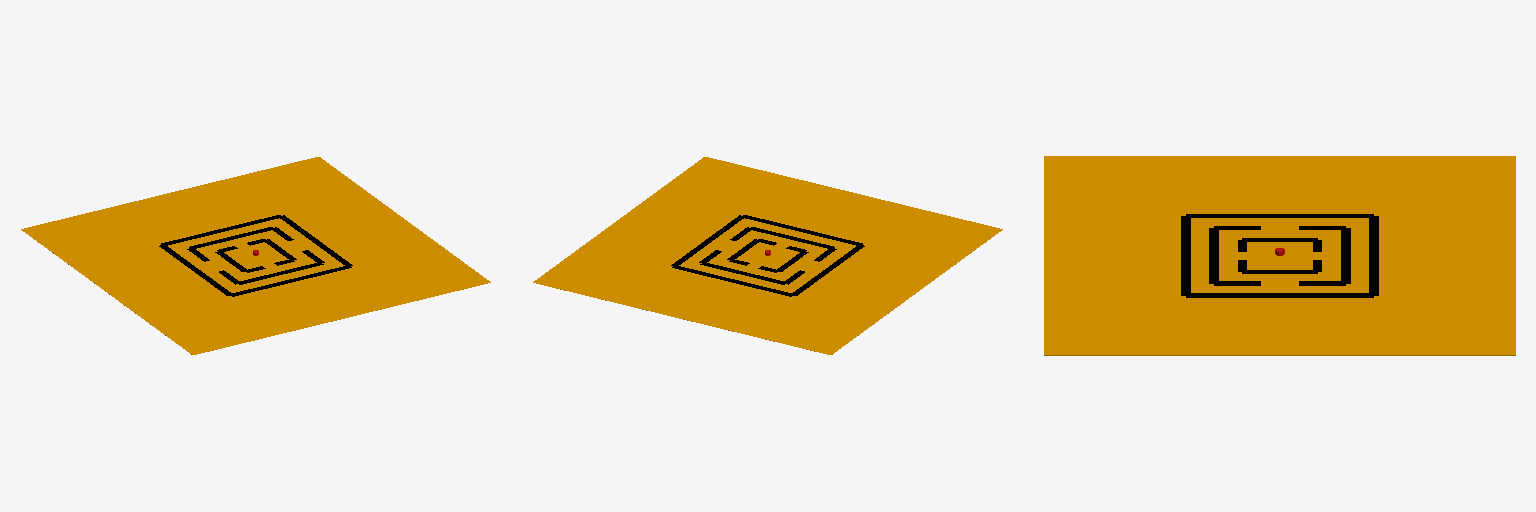
URDF robot description (maze):
<?xml version="1.0" ?>
<!-- =================================================================================== -->
<!-- |    This document was autogenerated by xacro from maze.urdf.xacro                | -->
<!-- |    EDITING THIS FILE BY HAND IS NOT RECOMMENDED                                 | -->
<!-- =================================================================================== -->
<robot name="maze">
  <material name="black">
    <color rgba="0 0 0 1"/>
  </material>
  <material name="red">
    <color rgba="0.8 0.1 0.1 1"/>
  </material>
  <material name="blue">
    <color rgba="0.1 0.1 0.9 1"/>
  </material>
  <material name="white">
    <color rgba="1 1 1 1"/>
  </material>
  <link name="base_link">
    <origin rpy="0.0 0.0 0.0" xyz="0 0 0.00"/>
    <visual>
      <geometry>
        <box size="5 5 0.001"/>
      </geometry>
    </visual>
  </link>
  <link name="obs_l1">
    <visual>
      <origin rpy="0.0 0.0 0.0" xyz="0.0 0.0 0.0"/>
      <geometry>
        <box size="0.1 0.8 0.01"/>
      </geometry>
      <material name="black"/>
    </visual>
    <collision>
      <origin rpy="0.0 0.0 0.0" xyz="0.0 0.0 0.0"/>
      <geometry>
        <box size="0.1 0.8 0.15"/>
      </geometry>
    </collision>
    <inertial>
      <mass value="10000"/>
      <inertia ixx="100" ixy="0" ixz="0" iyy="100" iyz="0" izz="100"/>
    </inertial>
  </link>
  <joint name="base_to_obs_l1" type="fixed">
    <parent link="base_link"/>
    <child link="obs_l1"/>
    <origin xyz="-0.4 0.0 0.0"/>
  </joint>
  <link name="obs_l2">
    <visual>
      <origin rpy="0.0 0.0 0.0" xyz="0.0 0.0 0.0"/>
      <geometry>
        <box size="0.3 0.1 0.01"/>
      </geometry>
      <material name="black"/>
    </visual>
    <collision>
      <origin rpy="0.0 0.0 0.0" xyz="0.0 0.0 0.0"/>
      <geometry>
        <box size="0.3 0.1 0.15"/>
      </geometry>
    </collision>
    <inertial>
      <mass value="10000"/>
      <inertia ixx="100" ixy="0" ixz="0" iyy="100" iyz="0" izz="100"/>
    </inertial>
  </link>
  <joint name="base_to_obs_l2" type="fixed">
    <parent link="base_link"/>
    <child link="obs_l2"/>
    <origin xyz="-0.25 0.4 0.0"/>
  </joint>
  <link name="obs_l3">
    <visual>
      <origin rpy="0.0 0.0 0.0" xyz="0.0 0.0 0.0"/>
      <geometry>
        <box size="0.3 0.1 0.01"/>
      </geometry>
      <material name="black"/>
    </visual>
    <collision>
      <origin rpy="0.0 0.0 0.0" xyz="0.0 0.0 0.0"/>
      <geometry>
        <box size="0.3 0.1 0.15"/>
      </geometry>
    </collision>
    <inertial>
      <mass value="10000"/>
      <inertia ixx="100" ixy="0" ixz="0" iyy="100" iyz="0" izz="100"/>
    </inertial>
  </link>
  <joint name="base_to_obs_l3" type="fixed">
    <parent link="base_link"/>
    <child link="obs_l3"/>
    <origin xyz="-0.25 -0.4 0.0"/>
  </joint>
  <link name="obs_r1">
    <visual>
      <origin rpy="0.0 0.0 0.0" xyz="0.0 0.0 0.0"/>
      <geometry>
        <box size="0.1 0.8 0.01"/>
      </geometry>
      <material name="black"/>
    </visual>
    <collision>
      <origin rpy="0.0 0.0 0.0" xyz="0.0 0.0 0.0"/>
      <geometry>
        <box size="0.1 0.8 0.15"/>
      </geometry>
    </collision>
    <inertial>
      <mass value="10000"/>
      <inertia ixx="100" ixy="0" ixz="0" iyy="100" iyz="0" izz="100"/>
    </inertial>
  </link>
  <joint name="base_to_obs_r1" type="fixed">
    <parent link="base_link"/>
    <child link="obs_r1"/>
    <origin xyz="0.4 0.0 0.0"/>
  </joint>
  <link name="obs_r2">
    <visual>
      <origin rpy="0.0 0.0 0.0" xyz="0.0 0.0 0.0"/>
      <geometry>
        <box size="0.3 0.1 0.01"/>
      </geometry>
      <material name="black"/>
    </visual>
    <collision>
      <origin rpy="0.0 0.0 0.0" xyz="0.0 0.0 0.0"/>
      <geometry>
        <box size="0.3 0.1 0.15"/>
      </geometry>
    </collision>
    <inertial>
      <mass value="10000"/>
      <inertia ixx="100" ixy="0" ixz="0" iyy="100" iyz="0" izz="100"/>
    </inertial>
  </link>
  <joint name="base_to_obs_r2" type="fixed">
    <parent link="base_link"/>
    <child link="obs_r2"/>
    <origin xyz="0.25 0.4 0.0"/>
  </joint>
  <link name="obs_r3">
    <visual>
      <origin rpy="0.0 0.0 0.0" xyz="0.0 0.0 0.0"/>
      <geometry>
        <box size="0.3 0.1 0.01"/>
      </geometry>
      <material name="black"/>
    </visual>
    <collision>
      <origin rpy="0.0 0.0 0.0" xyz="0.0 0.0 0.0"/>
      <geometry>
        <box size="0.3 0.1 0.15"/>
      </geometry>
    </collision>
    <inertial>
      <mass value="10000"/>
      <inertia ixx="100" ixy="0" ixz="0" iyy="100" iyz="0" izz="100"/>
    </inertial>
  </link>
  <joint name="base_to_obs_r3" type="fixed">
    <parent link="base_link"/>
    <child link="obs_r3"/>
    <origin xyz="0.25 -0.4 0.0"/>
  </joint>
  <link name="obs_t1">
    <visual>
      <origin rpy="0.0 0.0 0.0" xyz="0.0 0.0 0.0"/>
      <geometry>
        <box size="1.4 0.1 0.01"/>
      </geometry>
      <material name="black"/>
    </visual>
    <collision>
      <origin rpy="0.0 0.0 0.0" xyz="0.0 0.0 0.0"/>
      <geometry>
        <box size="1.4 0.1 0.15"/>
      </geometry>
    </collision>
    <inertial>
      <mass value="10000"/>
      <inertia ixx="100" ixy="0" ixz="0" iyy="100" iyz="0" izz="100"/>
    </inertial>
  </link>
  <joint name="base_to_obs_t1" type="fixed">
    <parent link="base_link"/>
    <child link="obs_t1"/>
    <origin xyz="0.0 0.7 0.0"/>
  </joint>
  <link name="obs_t2">
    <visual>
      <origin rpy="0.0 0.0 0.0" xyz="0.0 0.0 0.0"/>
      <geometry>
        <box size="0.1 0.5 0.01"/>
      </geometry>
      <material name="black"/>
    </visual>
    <collision>
      <origin rpy="0.0 0.0 0.0" xyz="0.0 0.0 0.0"/>
      <geometry>
        <box size="0.1 0.5 0.15"/>
      </geometry>
    </collision>
    <inertial>
      <mass value="10000"/>
      <inertia ixx="100" ixy="0" ixz="0" iyy="100" iyz="0" izz="100"/>
    </inertial>
  </link>
  <joint name="base_to_obs_t2" type="fixed">
    <parent link="base_link"/>
    <child link="obs_t2"/>
    <origin xyz="-0.7 0.44999999999999996 0.0"/>
  </joint>
  <link name="obs_t3">
    <visual>
      <origin rpy="0.0 0.0 0.0" xyz="0.0 0.0 0.0"/>
      <geometry>
        <box size="0.1 0.5 0.01"/>
      </geometry>
      <material name="black"/>
    </visual>
    <collision>
      <origin rpy="0.0 0.0 0.0" xyz="0.0 0.0 0.0"/>
      <geometry>
        <box size="0.1 0.5 0.15"/>
      </geometry>
    </collision>
    <inertial>
      <mass value="10000"/>
      <inertia ixx="100" ixy="0" ixz="0" iyy="100" iyz="0" izz="100"/>
    </inertial>
  </link>
  <joint name="base_to_obs_t3" type="fixed">
    <parent link="base_link"/>
    <child link="obs_t3"/>
    <origin xyz="0.7 0.44999999999999996 0.0"/>
  </joint>
  <link name="obs_b1">
    <visual>
      <origin rpy="0.0 0.0 0.0" xyz="0.0 0.0 0.0"/>
      <geometry>
        <box size="1.4 0.1 0.01"/>
      </geometry>
      <material name="black"/>
    </visual>
    <collision>
      <origin rpy="0.0 0.0 0.0" xyz="0.0 0.0 0.0"/>
      <geometry>
        <box size="1.4 0.1 0.15"/>
      </geometry>
    </collision>
    <inertial>
      <mass value="10000"/>
      <inertia ixx="100" ixy="0" ixz="0" iyy="100" iyz="0" izz="100"/>
    </inertial>
  </link>
  <joint name="base_to_obs_b1" type="fixed">
    <parent link="base_link"/>
    <child link="obs_b1"/>
    <origin xyz="0.0 -0.7 0.0"/>
  </joint>
  <link name="obs_b2">
    <visual>
      <origin rpy="0.0 0.0 0.0" xyz="0.0 0.0 0.0"/>
      <geometry>
        <box size="0.1 0.5 0.01"/>
      </geometry>
      <material name="black"/>
    </visual>
    <collision>
      <origin rpy="0.0 0.0 0.0" xyz="0.0 0.0 0.0"/>
      <geometry>
        <box size="0.1 0.5 0.15"/>
      </geometry>
    </collision>
    <inertial>
      <mass value="10000"/>
      <inertia ixx="100" ixy="0" ixz="0" iyy="100" iyz="0" izz="100"/>
    </inertial>
  </link>
  <joint name="base_to_obs_b2" type="fixed">
    <parent link="base_link"/>
    <child link="obs_b2"/>
    <origin xyz="-0.7 -0.44999999999999996 0.0"/>
  </joint>
  <link name="obs_b3">
    <visual>
      <origin rpy="0.0 0.0 0.0" xyz="0.0 0.0 0.0"/>
      <geometry>
        <box size="0.1 0.5 0.01"/>
      </geometry>
      <material name="black"/>
    </visual>
    <collision>
      <origin rpy="0.0 0.0 0.0" xyz="0.0 0.0 0.0"/>
      <geometry>
        <box size="0.1 0.5 0.15"/>
      </geometry>
    </collision>
    <inertial>
      <mass value="10000"/>
      <inertia ixx="100" ixy="0" ixz="0" iyy="100" iyz="0" izz="100"/>
    </inertial>
  </link>
  <joint name="base_to_obs_b3" type="fixed">
    <parent link="base_link"/>
    <child link="obs_b3"/>
    <origin xyz="0.7 -0.44999999999999996 0.0"/>
  </joint>
  <link name="obs_w1">
    <visual>
      <origin rpy="0.0 0.0 0.0" xyz="0.0 0.0 0.0"/>
      <geometry>
        <box size="2.0 0.1 0.01"/>
      </geometry>
      <material name="black"/>
    </visual>
    <collision>
      <origin rpy="0.0 0.0 0.0" xyz="0.0 0.0 0.0"/>
      <geometry>
        <box size="2.0 0.1 0.15"/>
      </geometry>
    </collision>
    <inertial>
      <mass value="10000"/>
      <inertia ixx="100" ixy="0" ixz="0" iyy="100" iyz="0" izz="100"/>
    </inertial>
  </link>
  <joint name="base_to_obs_w1" type="fixed">
    <parent link="base_link"/>
    <child link="obs_w1"/>
    <origin xyz="0 1.0 0.0"/>
  </joint>
  <link name="obs_w2">
    <visual>
      <origin rpy="0.0 0.0 0.0" xyz="0.0 0.0 0.0"/>
      <geometry>
        <box size="2.0 0.1 0.01"/>
      </geometry>
      <material name="black"/>
    </visual>
    <collision>
      <origin rpy="0.0 0.0 0.0" xyz="0.0 0.0 0.0"/>
      <geometry>
        <box size="2.0 0.1 0.15"/>
      </geometry>
    </collision>
    <inertial>
      <mass value="10000"/>
      <inertia ixx="100" ixy="0" ixz="0" iyy="100" iyz="0" izz="100"/>
    </inertial>
  </link>
  <joint name="base_to_obs_w2" type="fixed">
    <parent link="base_link"/>
    <child link="obs_w2"/>
    <origin xyz="0 -1.0 0.0"/>
  </joint>
  <link name="obs_w3">
    <visual>
      <origin rpy="0.0 0.0 0.0" xyz="0.0 0.0 0.0"/>
      <geometry>
        <box size="0.1 2.0 0.01"/>
      </geometry>
      <material name="black"/>
    </visual>
    <collision>
      <origin rpy="0.0 0.0 0.0" xyz="0.0 0.0 0.0"/>
      <geometry>
        <box size="0.1 2.0 0.15"/>
      </geometry>
    </collision>
    <inertial>
      <mass value="10000"/>
      <inertia ixx="100" ixy="0" ixz="0" iyy="100" iyz="0" izz="100"/>
    </inertial>
  </link>
  <joint name="base_to_obs_w3" type="fixed">
    <parent link="base_link"/>
    <child link="obs_w3"/>
    <origin xyz="-1.0 0.0 0.0"/>
  </joint>
  <link name="obs_w4">
    <visual>
      <origin rpy="0.0 0.0 0.0" xyz="0.0 0.0 0.0"/>
      <geometry>
        <box size="0.1 2.0 0.01"/>
      </geometry>
      <material name="black"/>
    </visual>
    <collision>
      <origin rpy="0.0 0.0 0.0" xyz="0.0 0.0 0.0"/>
      <geometry>
        <box size="0.1 2.0 0.15"/>
      </geometry>
    </collision>
    <inertial>
      <mass value="10000"/>
      <inertia ixx="100" ixy="0" ixz="0" iyy="100" iyz="0" izz="100"/>
    </inertial>
  </link>
  <joint name="base_to_obs_w4" type="fixed">
    <parent link="base_link"/>
    <child link="obs_w4"/>
    <origin xyz="1.0 0.0 0.0"/>
  </joint>
  <link name="bot_x">
    <origin rpy="0.0 0.0 0.0" xyz="0.0 0.0 0.0"/>
  </link>
  <link name="bot">
    <visual>
      <origin rpy="0.0 0.0 0.0" xyz="0 0 0.03"/>
      <geometry>
        <cylinder length="0.05" radius="0.05"/>
      </geometry>
      <material name="red"/>
    </visual>
    <collision>
      <origin rpy="0.0 0.0 0.0" xyz="0 0 0.03"/>
      <geometry>
        <cylinder length="0.05" radius="0.05"/>
      </geometry>
    </collision>
    <inertial>
      <origin rpy="0 0 0" xyz="0 0 0"/>
      <mass value="0.2"/>
    </inertial>
  </link>
  <joint name="base_to_bot_x" type="prismatic">
    <parent link="base_link"/>
    <child link="bot_x"/>
    <origin rpy="0 0 0" xyz="0 0 0.01"/>
    <axis xyz="1 0 0"/>
  </joint>
  <joint name="bot_x_to_bot" type="prismatic">
    <parent link="bot_x"/>
    <child link="bot"/>
    <origin rpy="0 0 0" xyz="0 0 0.01"/>
    <axis xyz="0 1 0"/>
  </joint>
</robot>

--- Render facts (derived) ---
The picture shows the robot from 3 angles, left to right: view 1: azimuth 30°, elevation 25°; view 2: azimuth 150°, elevation 25°; view 3: azimuth 270°, elevation 25°; orthographic projection.
Model maze with 19 links and 18 joints (2 prismatic, 16 fixed), rooted at base_link, posed all joints at 0.
Links seen in each view (by area): view 1: base_link; view 2: base_link; view 3: base_link, obs_w4, obs_w1, obs_w2, obs_w3, obs_b1, obs_t1.
Link boxes in pixels (x1=…): base_link: x1=21, y1=157, x2=490, y2=354; base_link: x1=533, y1=157, x2=1002, y2=354; base_link: x1=1044, y1=156, x2=1515, y2=355; obs_w4: x1=1186, y1=293, x2=1373, y2=297; obs_w1: x1=1369, y1=216, x2=1378, y2=295; obs_w2: x1=1181, y1=216, x2=1190, y2=295; obs_w3: x1=1186, y1=214, x2=1373, y2=217; obs_b1: x1=1209, y1=228, x2=1218, y2=283; obs_t1: x1=1341, y1=228, x2=1350, y2=283.
Bounding box of the posed robot: 5 × 5 × 0.08 m (x, y, z).
Geometry: primitives only (box / cylinder / sphere), no mesh files.